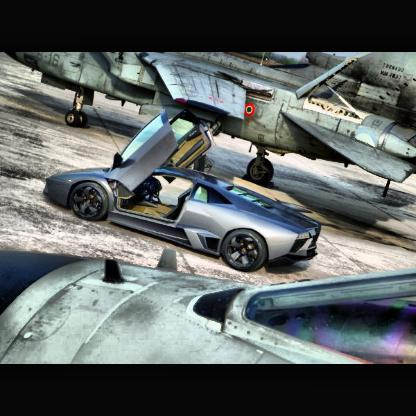Lamborghini Reventon Coupe 2008: (44, 108, 324, 272)
